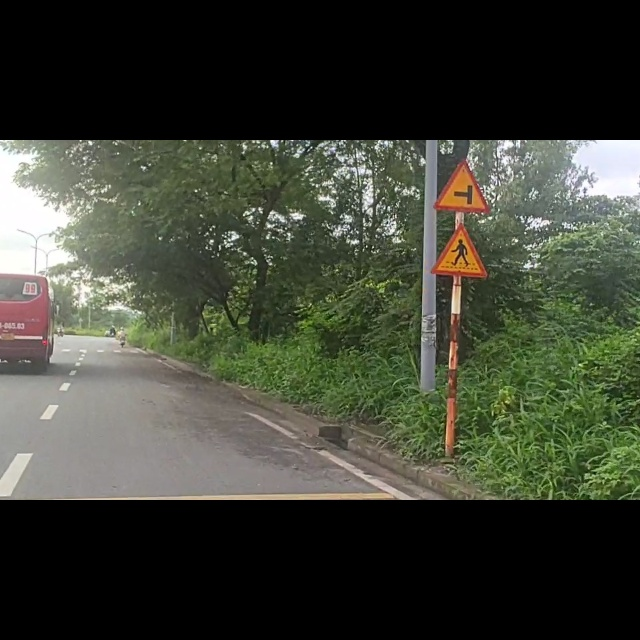bien_nguy_hiem: (429, 143, 493, 250), (437, 37, 488, 128)
